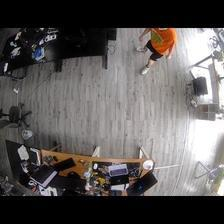fall: (136, 29, 175, 75)
